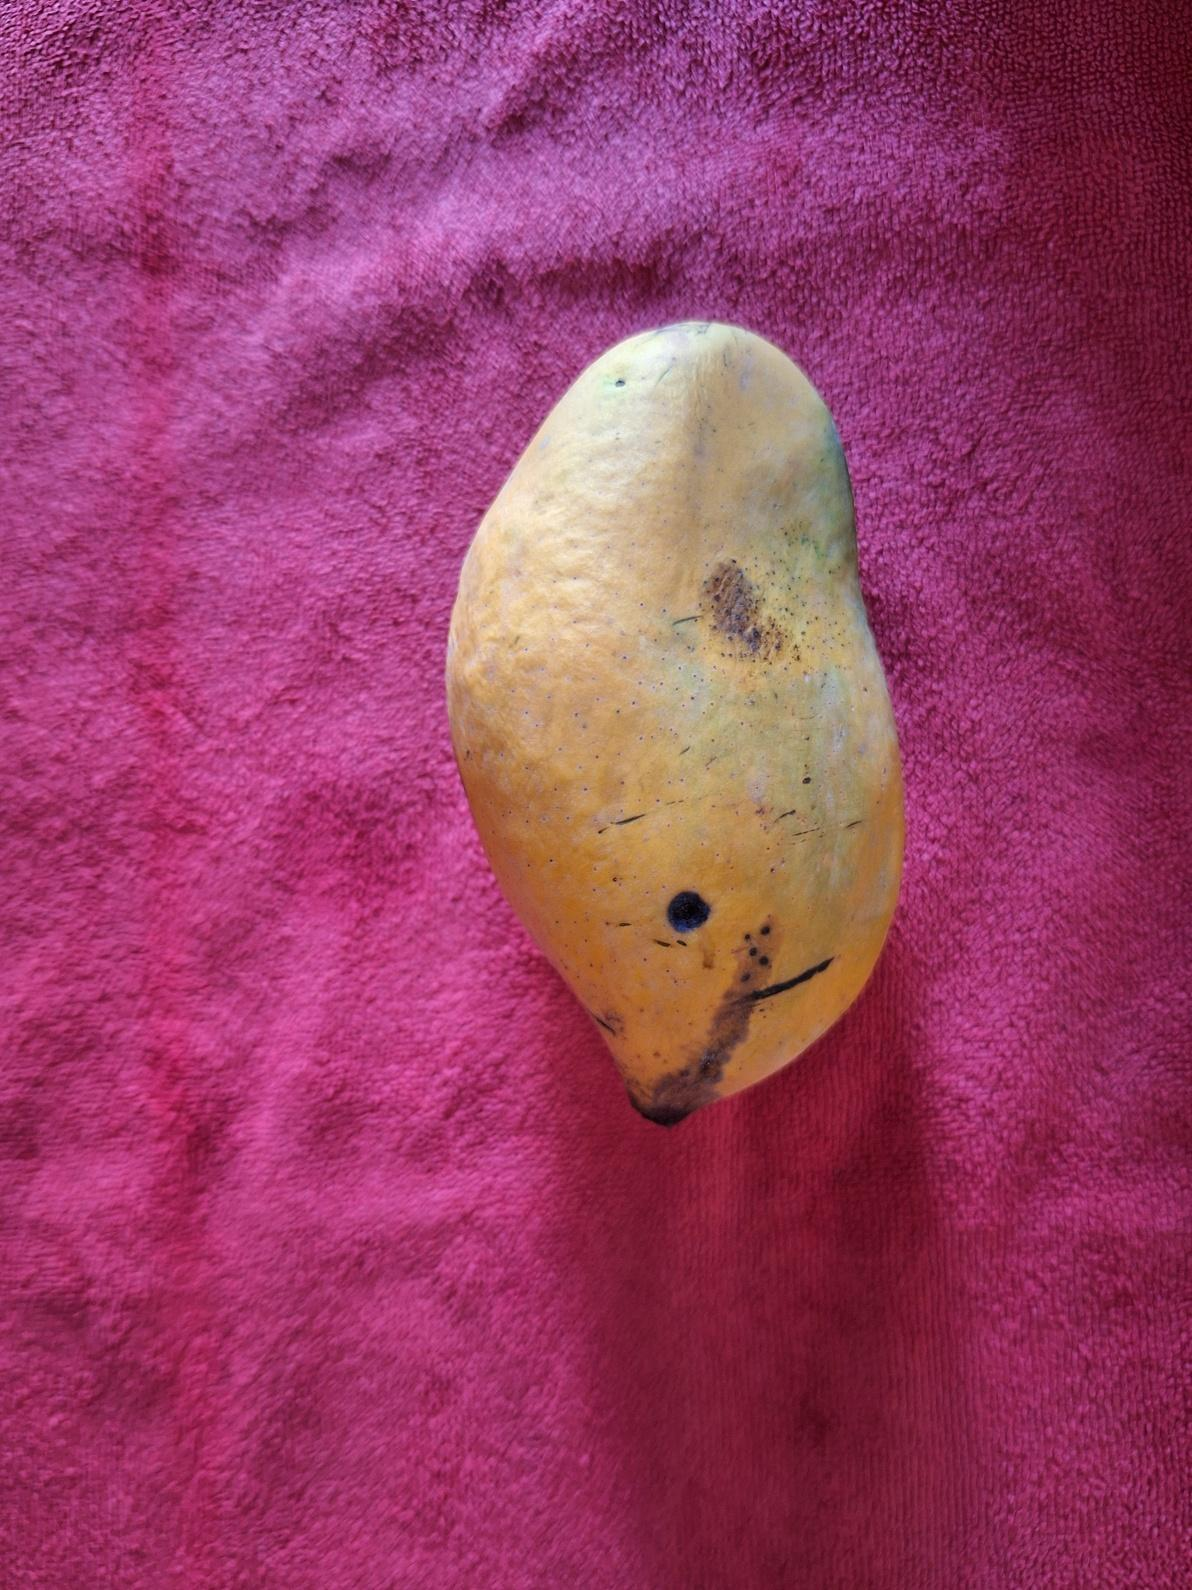mango: (443, 317, 907, 1126)
